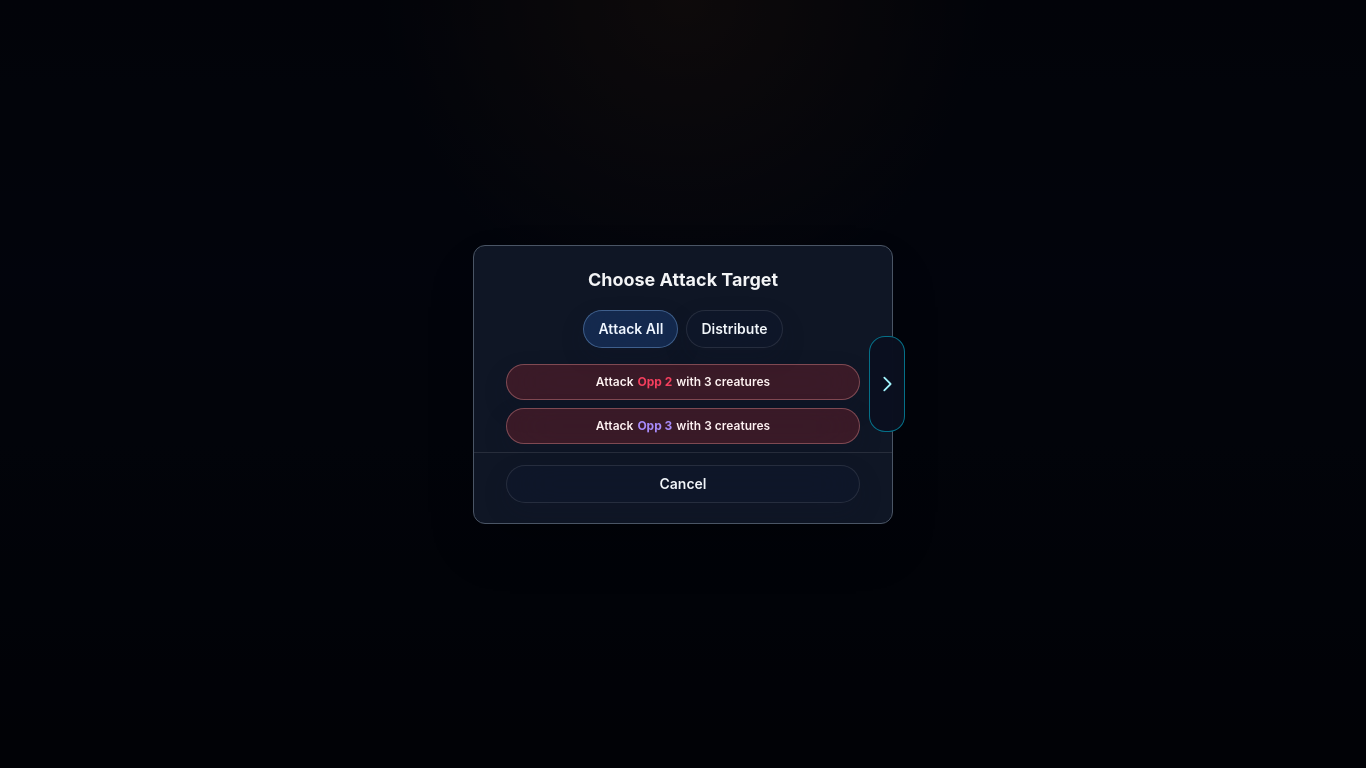
AttackTargetPicker › disables Confirm until Unassigned is empty, then even-splits across targets
Later steps or results of the test are not shown.
Click the button "Distribute".
click(734, 328)  # box [686,310,782,348]
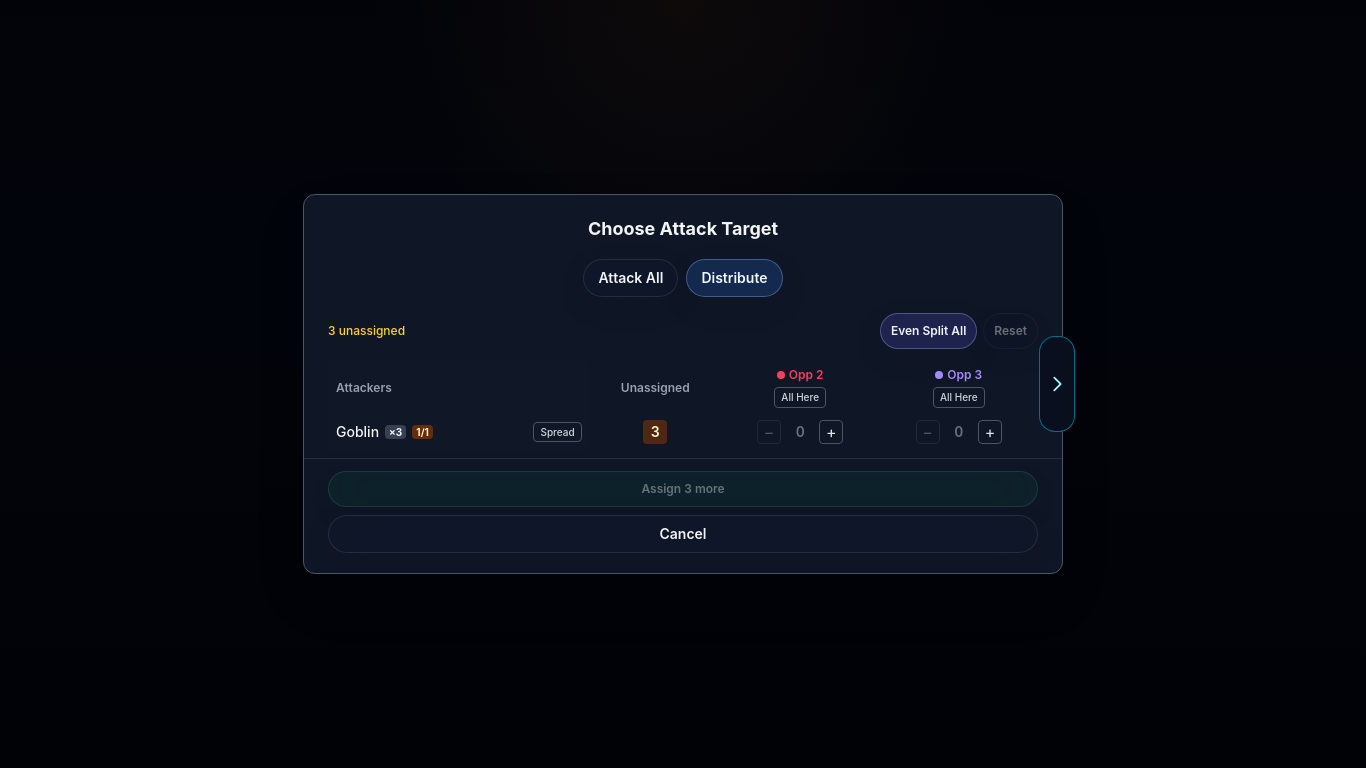
Result: the button "Assign 3 more" is disabled at [328,471,1038,507]
Click the button "Even Split All".
click(929, 331)  # box [880,313,977,349]
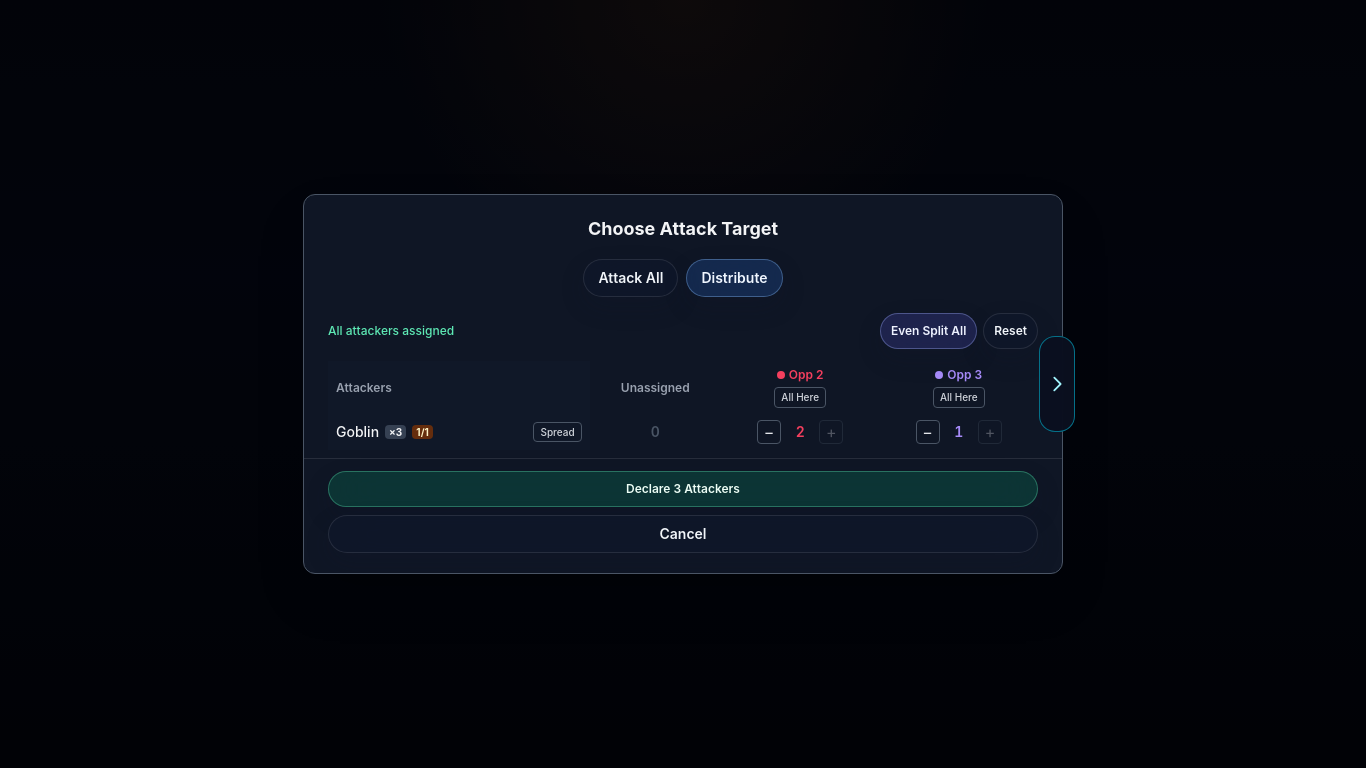
Result: the button "Declare 3 Attackers" is enabled at [328,471,1038,507]
